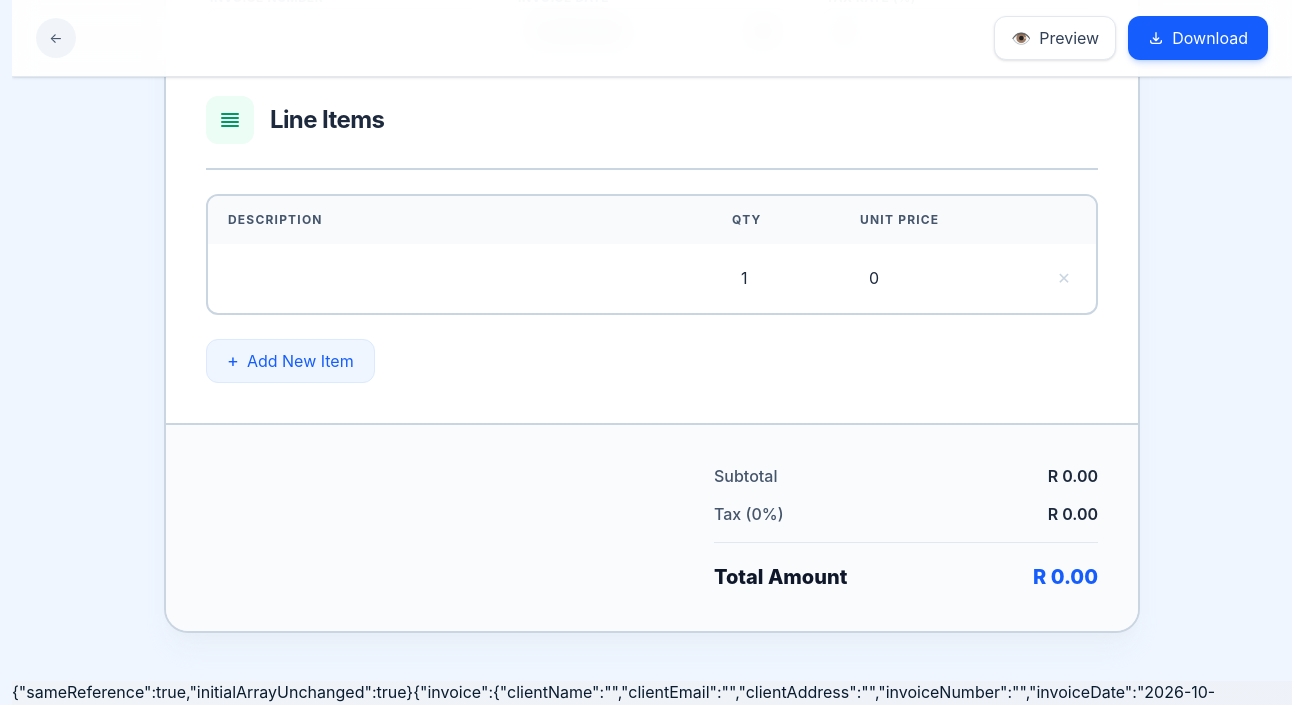
Scenario: InvoiceBuilder dataflow › Item collection flows › adding one item appends the defaults and preserves the existing item
(page scrolled)
Click the button "+ Add New Item" at (290, 361), box [206,338,375,383]
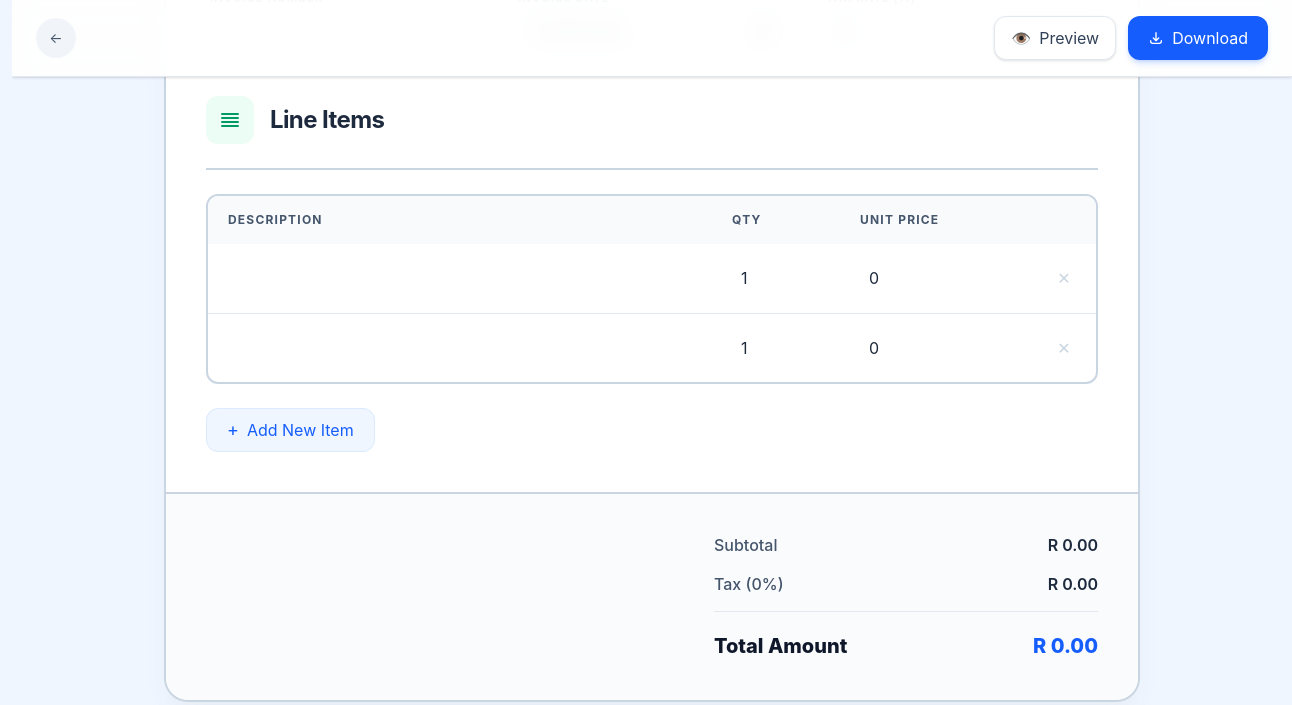
Check: the number of rows is 3, box [208,196,1096,244]; [208,244,1096,313]; [208,313,1096,382]
Check: the number of buttons "✕" is 2, box [1049,259,1079,298]; [1049,328,1079,367]
